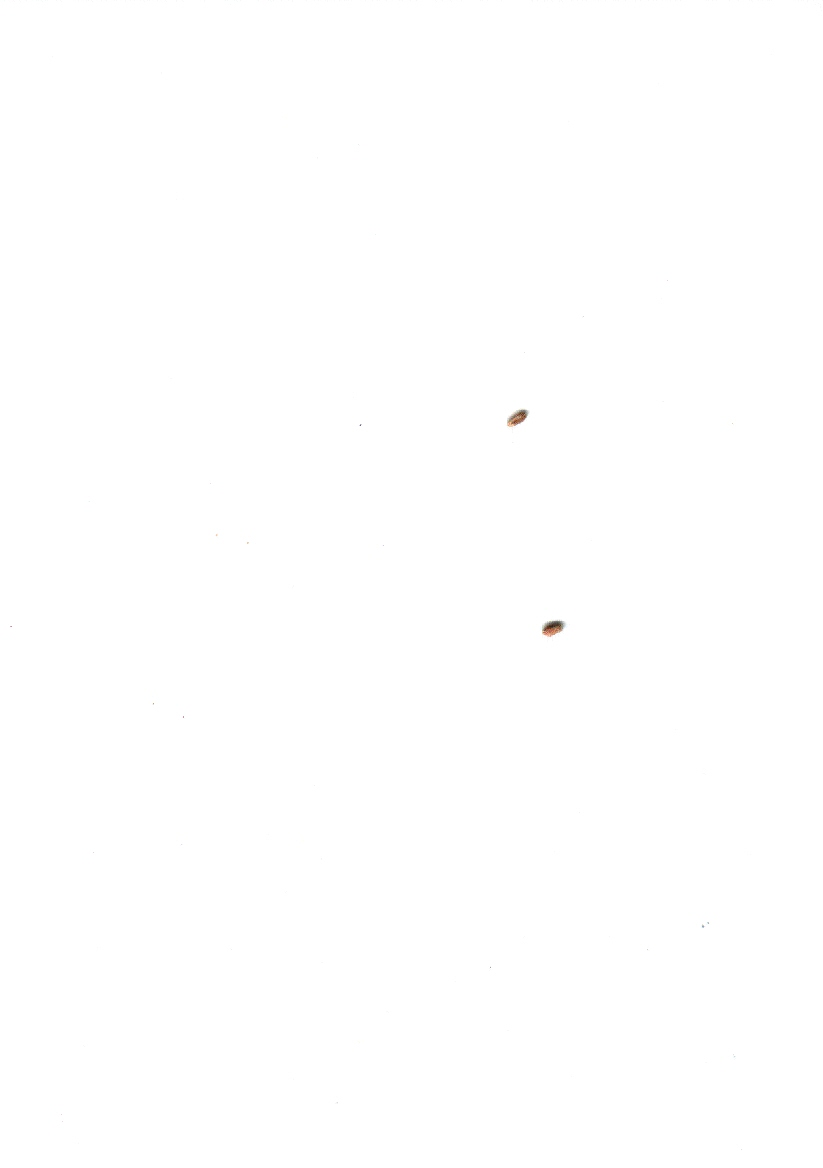grains: (494, 397, 540, 445), (531, 604, 575, 653)
